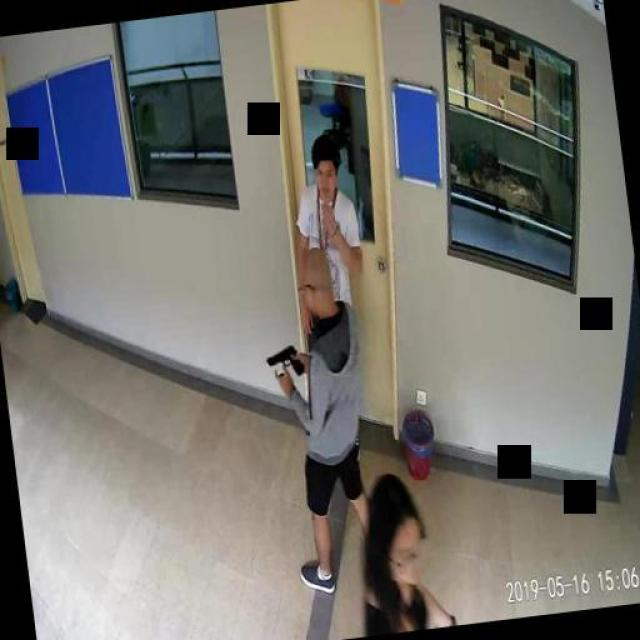gun: (264, 342, 305, 382)
